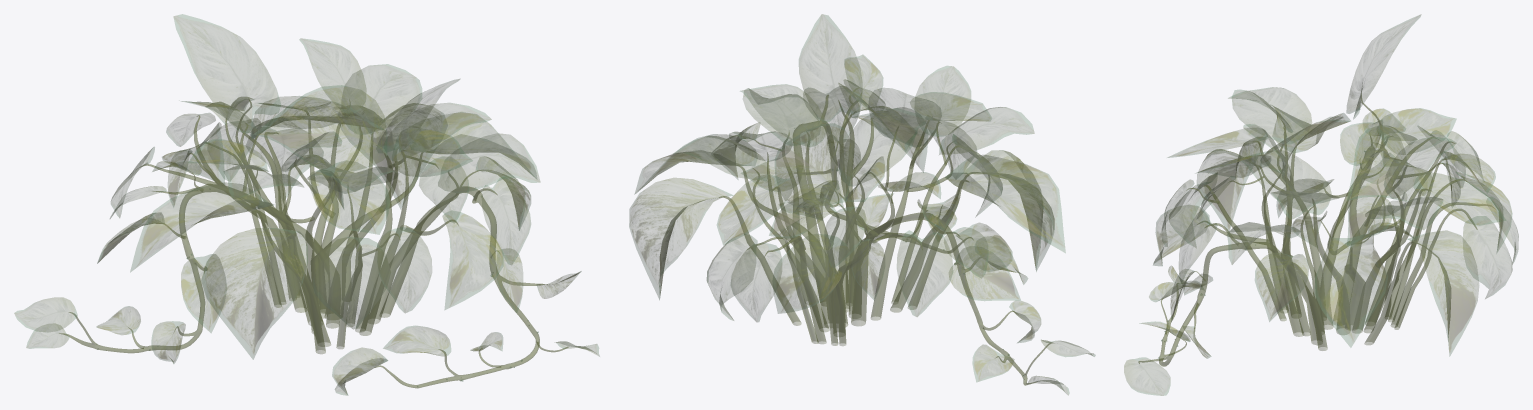
File: preview.glb
3 renders of one model, left to right at view 1: azimuth 30°, elevation 25°; view 2: azimuth 150°, elevation 25°; view 3: azimuth 270°, elevation 25°, orthographic. The views are drawn at different scales.
Visible parts, largest first — view 1: Plant_Epipremnum_aureum_A_Leaf_glb, Plant_Epipremnum_aureum_A_Stem_glb; view 2: Plant_Epipremnum_aureum_A_Leaf_glb, Plant_Epipremnum_aureum_A_Stem_glb; view 3: Plant_Epipremnum_aureum_A_Leaf_glb, Plant_Epipremnum_aureum_A_Stem_glb.
Boxes of the visible parts, box(x1,y1,x2,y2) form: Plant_Epipremnum_aureum_A_Leaf_glb: box(14, 14, 599, 395); Plant_Epipremnum_aureum_A_Stem_glb: box(59, 98, 568, 388); Plant_Epipremnum_aureum_A_Leaf_glb: box(629, 14, 1095, 395); Plant_Epipremnum_aureum_A_Stem_glb: box(719, 88, 1052, 385); Plant_Epipremnum_aureum_A_Leaf_glb: box(1124, 14, 1518, 395); Plant_Epipremnum_aureum_A_Stem_glb: box(1138, 94, 1493, 366).
Size of the model in its own units: 0.6154 by 0.349 by 0.4675.
2 materials, 2 textured.
